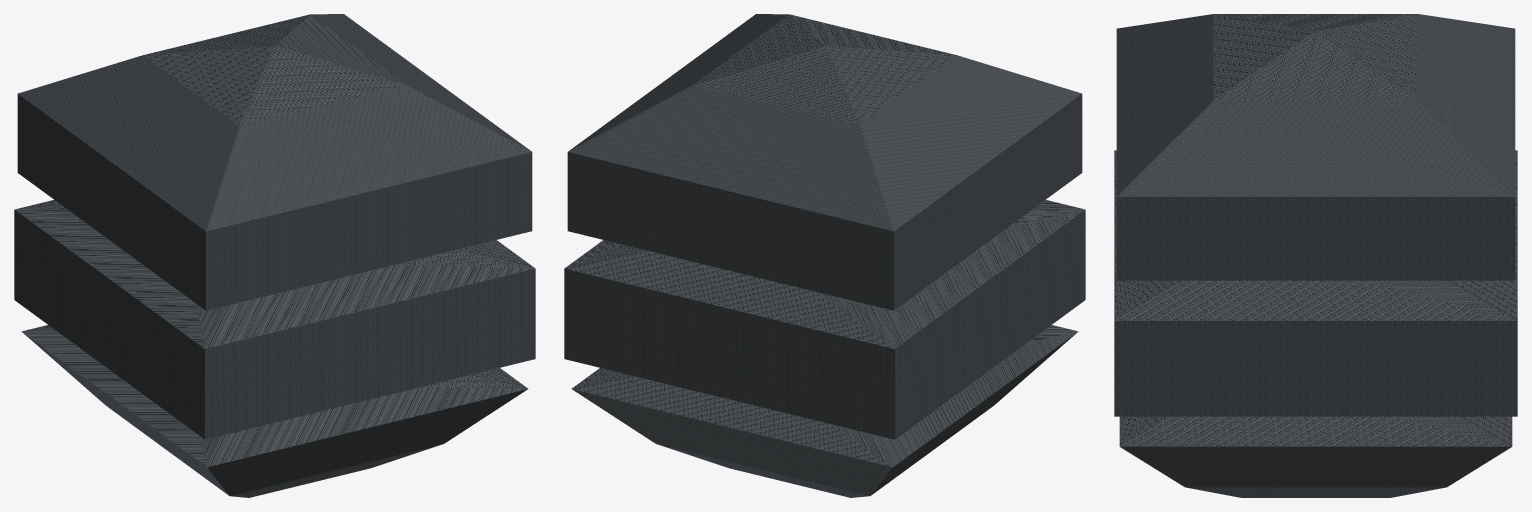
Rendered from enviroment.glb.
3 views of the same model, side by side, from view 1: azimuth 30°, elevation 25°; view 2: azimuth 150°, elevation 25°; view 3: azimuth 270°, elevation 25° (orthographic). The views are drawn at different scales.
Parts seen in each view (by area): view 1: Plane; view 2: Plane; view 3: Plane.
Part boxes in pixels (x1=…): Plane: x1=14, y1=14, x2=535, y2=497; Plane: x1=564, y1=14, x2=1085, y2=497; Plane: x1=1114, y1=14, x2=1517, y2=497.
Bounding box in the file's own units: 271 × 323 × 271.
2 materials, 2 textured.
